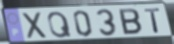0: (72, 9, 95, 39)
3: (95, 8, 119, 38)
B: (118, 8, 144, 36)
Q: (46, 10, 74, 40)
T: (143, 7, 162, 34)
X: (21, 11, 50, 41)
